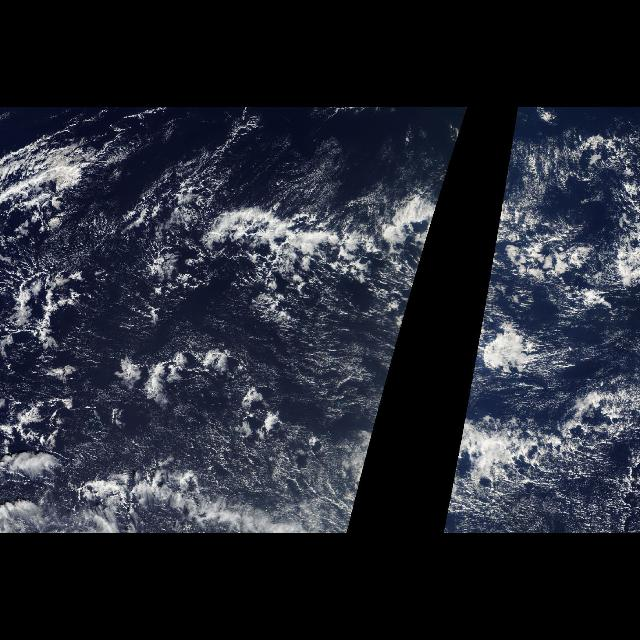Fish: (206, 202, 438, 298), (485, 202, 639, 298)
Sugar: (62, 292, 410, 512), (446, 348, 636, 530), (142, 120, 388, 214)
